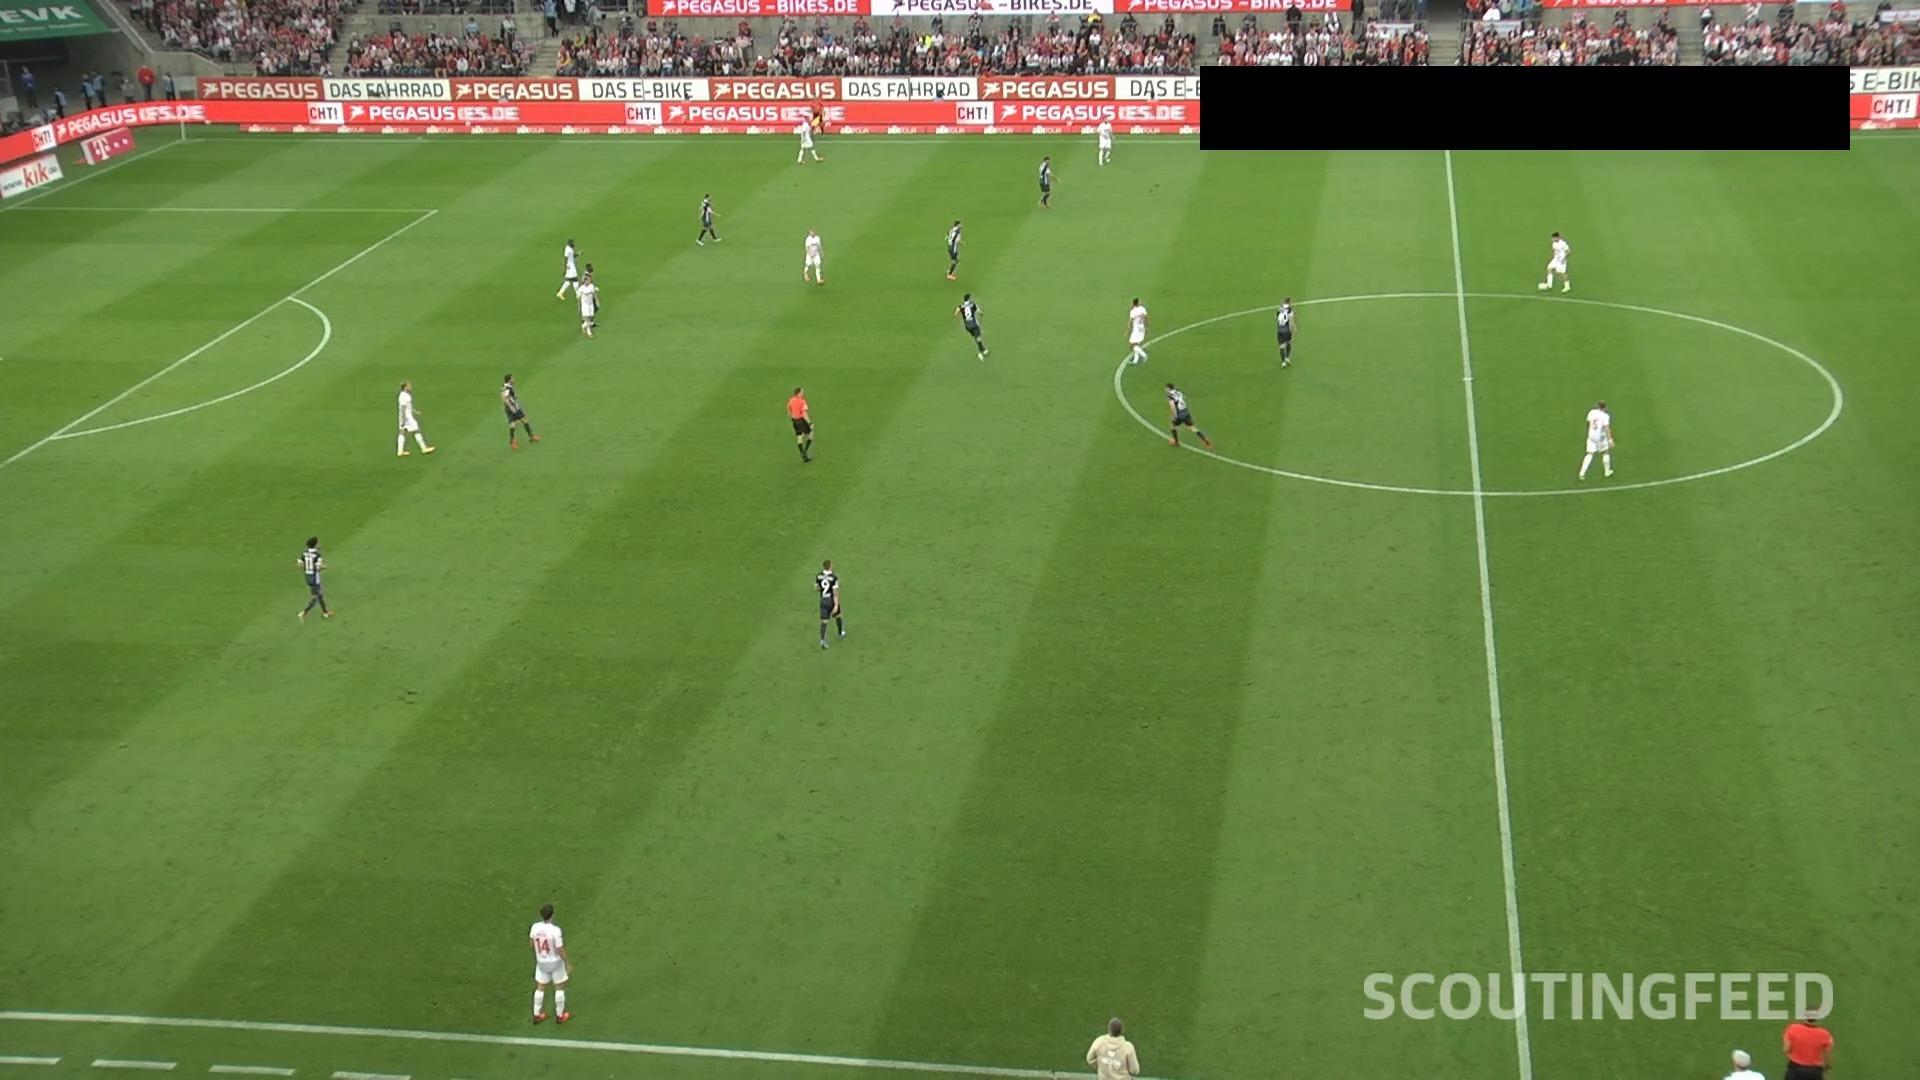ball: (1536, 280, 1549, 291)
